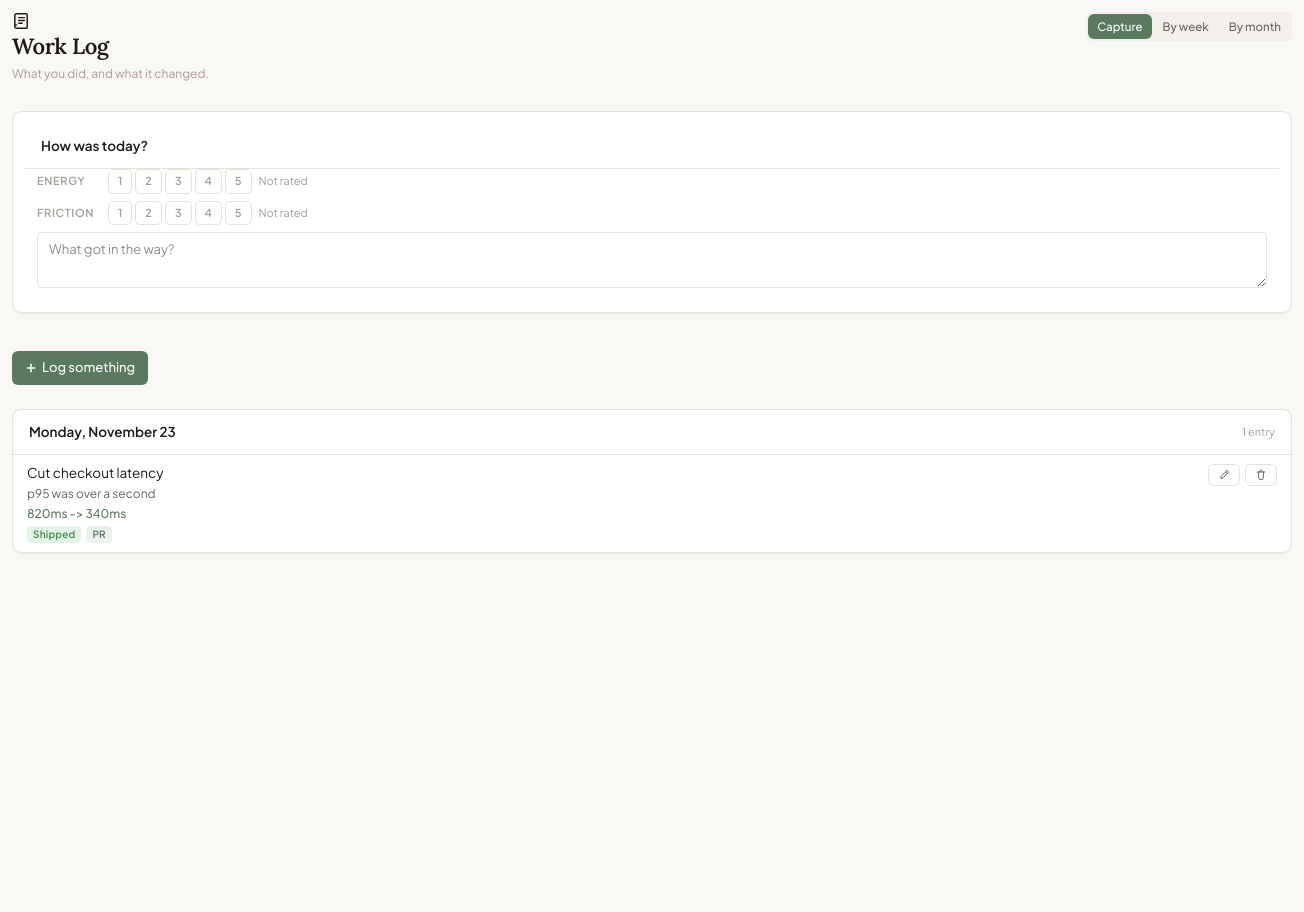
Test case: WorkLogView editing › discards changes on cancel
Step 1. Click the button named "Edit entry" → (1224, 475), box [1208,464,1240,486]
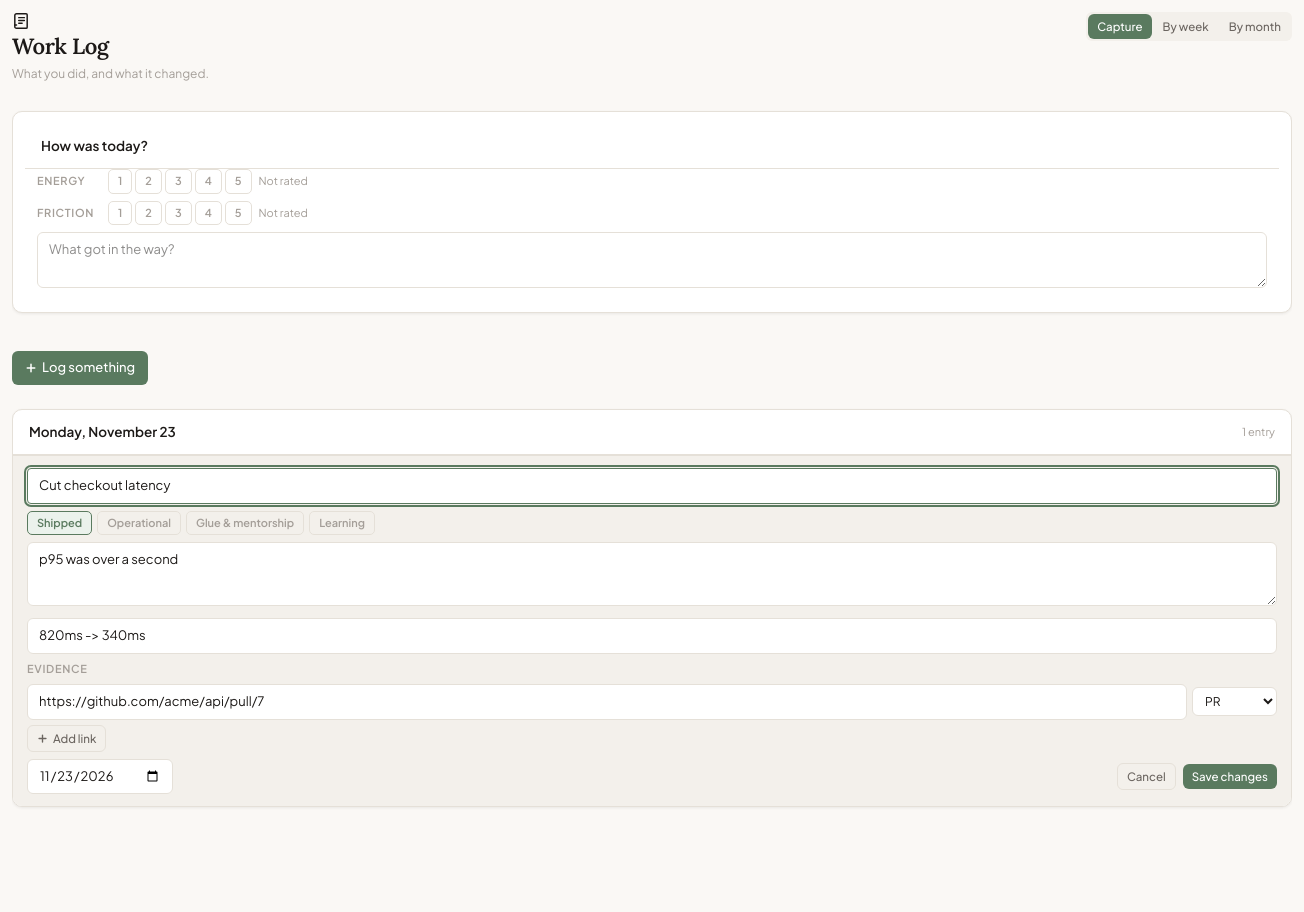
Step 2. Type " EDITED" into the 1st field with placeholder "What did you do?" → (652, 486), box [27,468,1277,504]
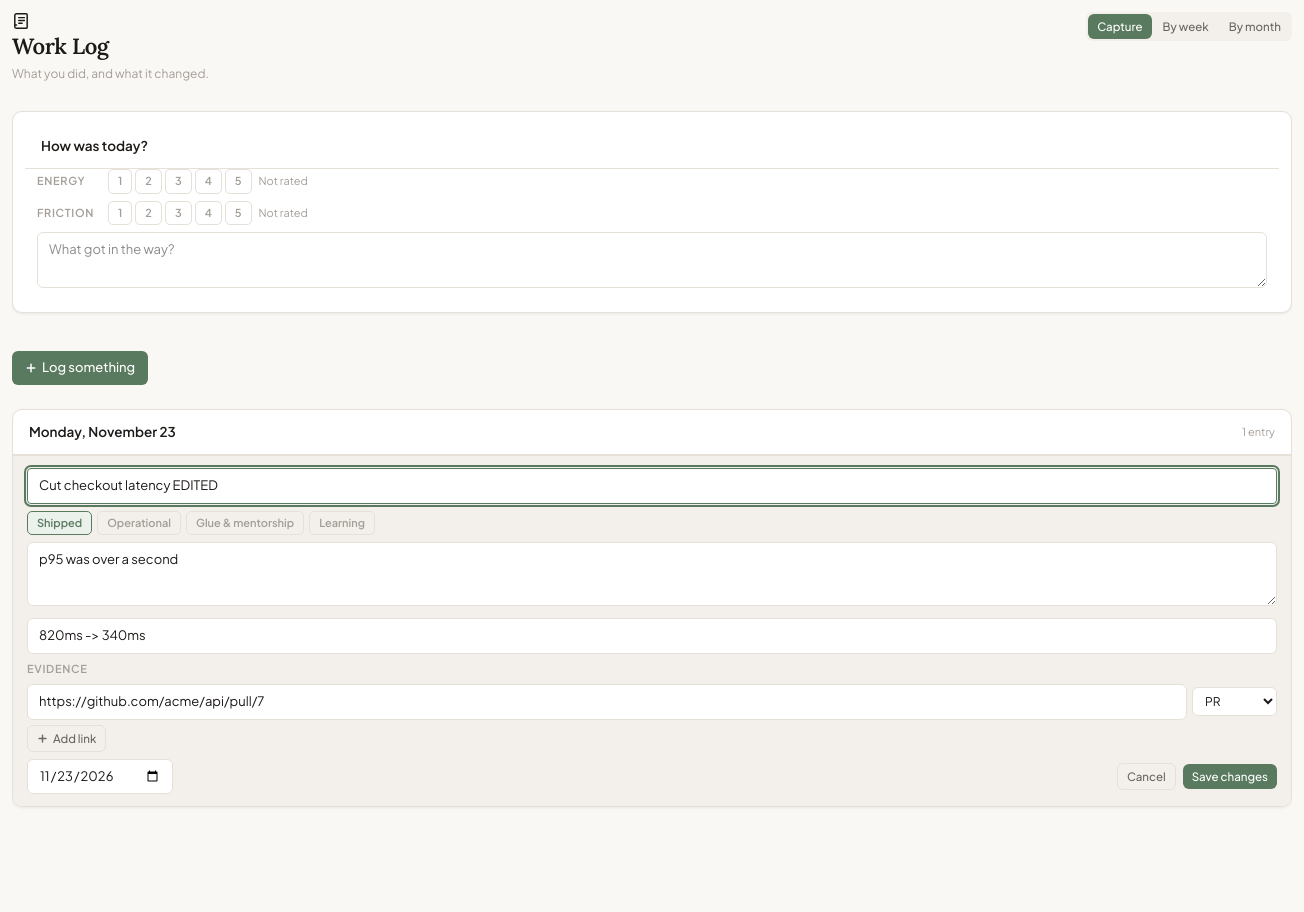
Step 3. Click the button "Cancel" → (1146, 777), box [1117,763,1176,790]
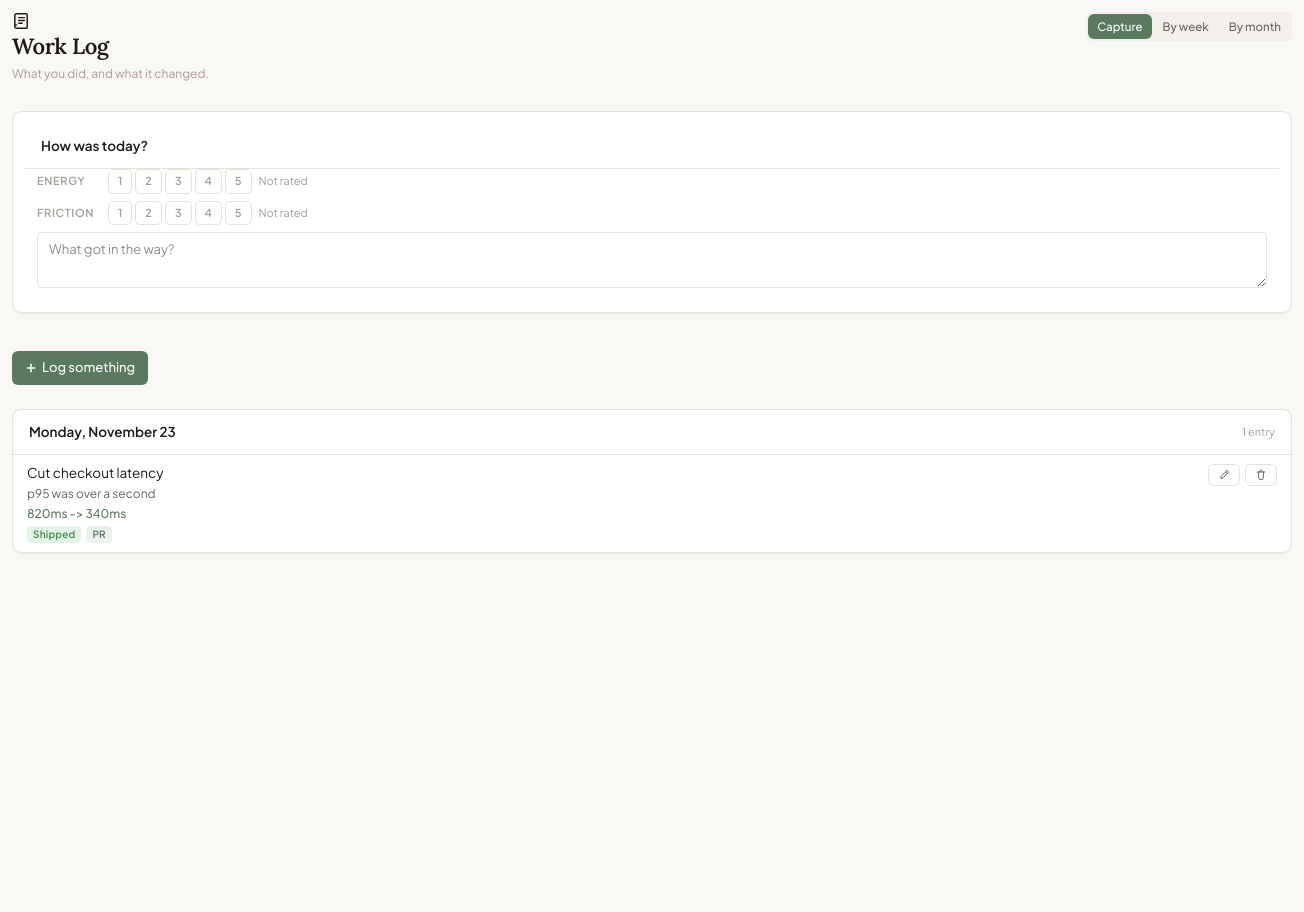
Expected: the text "Cut checkout latency" is shown, [27,464,164,481]
